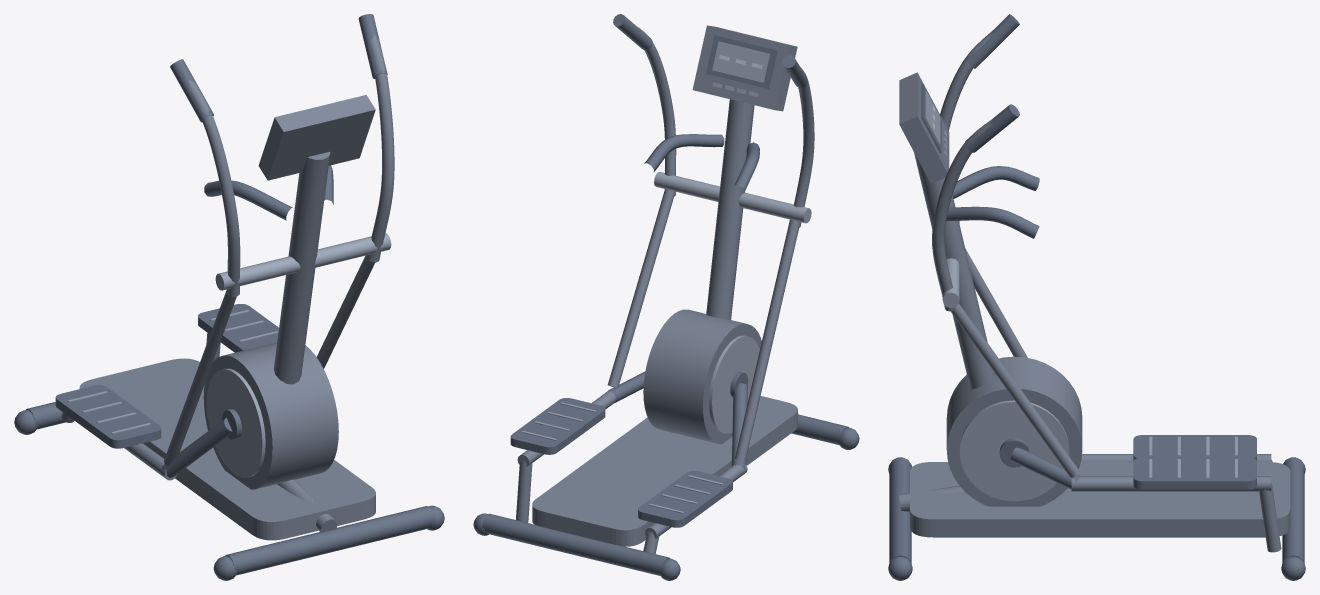
The model's file is elliptical-lite.glb.
The picture shows the model from 3 angles, left to right: view 1: azimuth 30°, elevation 25°; view 2: azimuth 150°, elevation 25°; view 3: azimuth 270°, elevation 25°; orthographic projection. The views are drawn at different scales.
Visible parts, largest first — view 1: elliptical-frame, elliptical-dark, elliptical-accent; view 2: elliptical-frame, elliptical-dark, elliptical-accent, elliptical-soft; view 3: elliptical-frame, elliptical-dark, elliptical-accent.
Boxes of the visible parts, x1,y1,x2,y2 form: elliptical-frame: (61,34,394,540); elliptical-dark: (14,14,444,580); elliptical-accent: (67,233,391,477); elliptical-frame: (516,25,814,553); elliptical-dark: (473,14,859,580); elliptical-accent: (521,82,811,513); elliptical-soft: (712,41,769,82); elliptical-frame: (899,30,1290,552); elliptical-dark: (888,14,1305,580); elliptical-accent: (942,130,1237,501).
Size of the model in its own units: 0.818 by 1.64 by 1.32.
